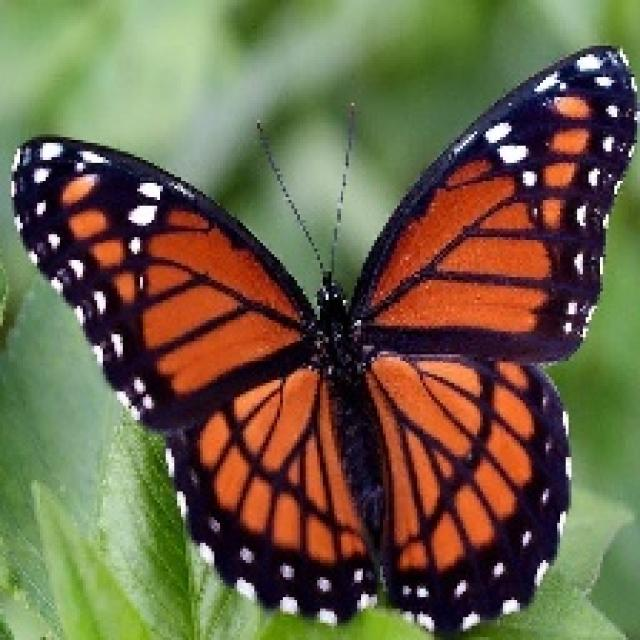butterfly: (6, 40, 637, 637)
